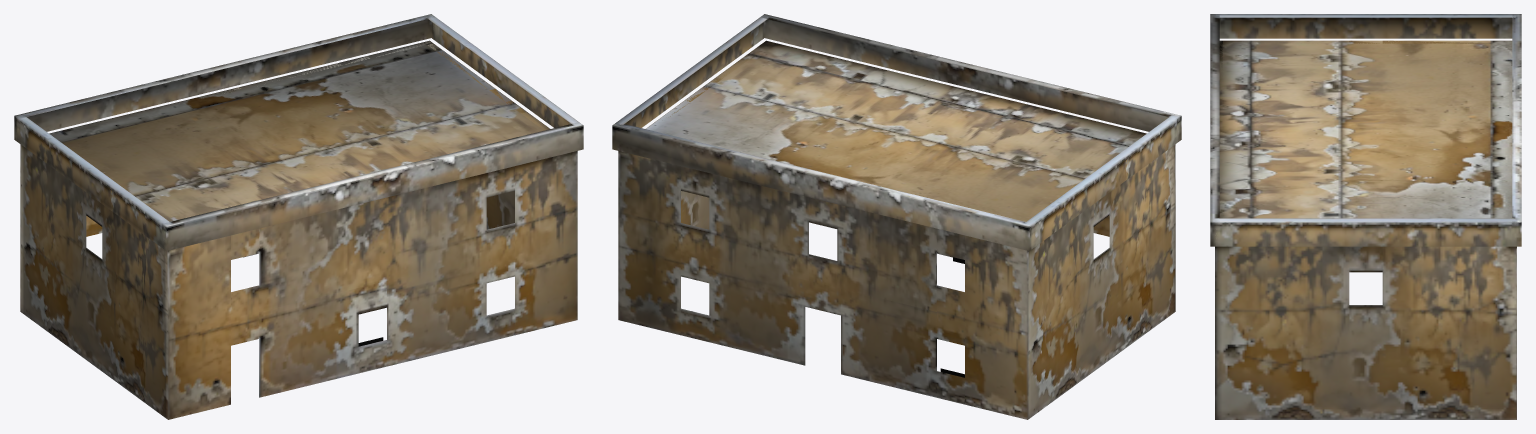
Rendered from skin_harbour_0_25.glb.
The picture shows the model from 3 angles, left to right: view 1: azimuth 30°, elevation 25°; view 2: azimuth 150°, elevation 25°; view 3: azimuth 270°, elevation 25°; orthographic projection. The views are drawn at different scales.
Visible parts, largest first — view 1: harbour_0_25; view 2: harbour_0_25; view 3: harbour_0_25.
Part boxes in pixels (<box>): harbour_0_25: <box>14,14,583,419</box>; harbour_0_25: <box>612,14,1181,419</box>; harbour_0_25: <box>1210,14,1521,419</box>.
Size of the model in its own units: 16.3 by 7.3 by 10.3.
Materials: 1 (1 with a texture image).
